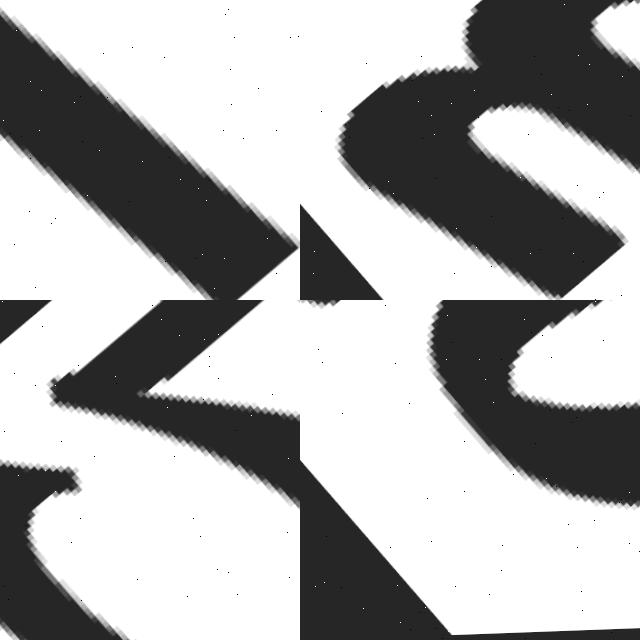5: (300, 300, 640, 640)
L: (0, 0, 300, 300)
M: (300, 0, 640, 300)
V: (0, 300, 300, 640)
